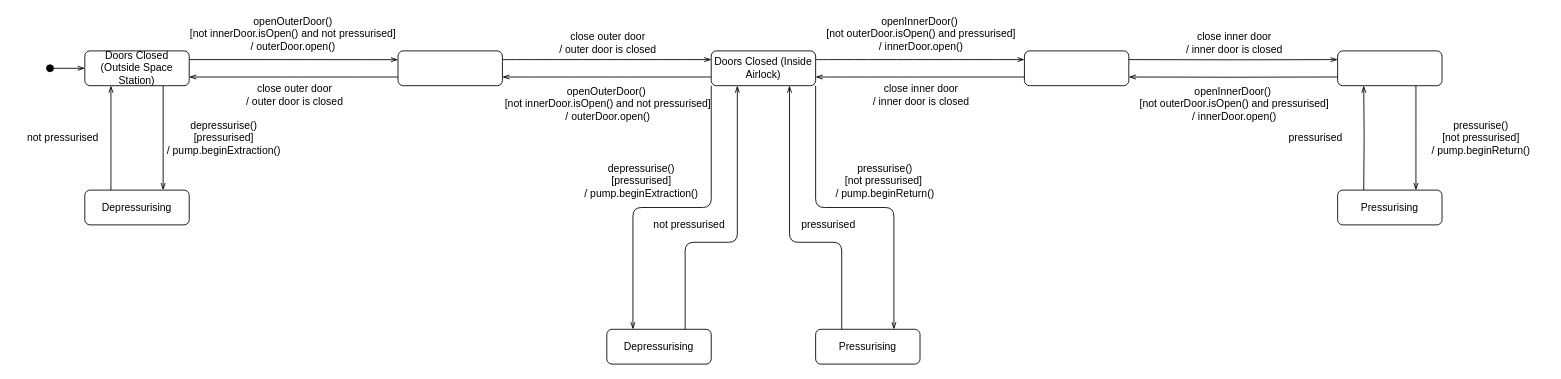
This 1561x379 diagram has some shape labels left out. Here are the shapes that lost their labels. From the top down, the box of each, then its label:
(397, 50, 502, 86): Outer Door Open and Inner Door Closed
(1024, 50, 1129, 86): Outer Door Closed and Inner Door Open
(1337, 50, 1442, 86): Doors Closed (Inside Space Stattion)
